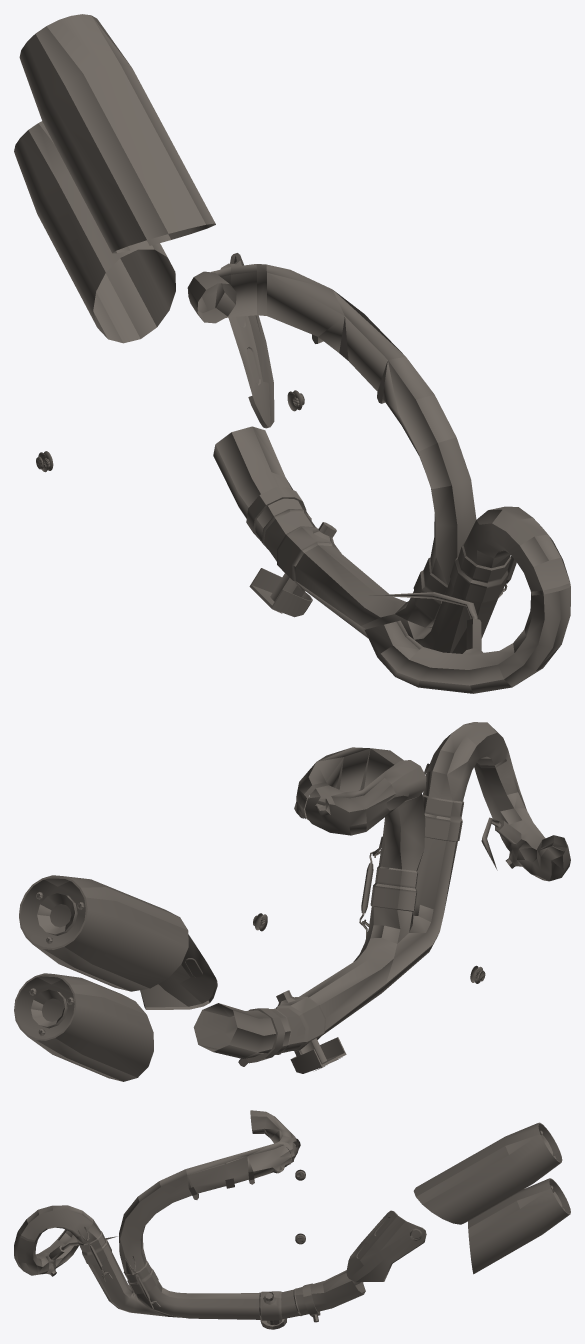
The model's file is Exhaust.glb.
The picture shows the model from 3 angles, top to bottom: view 1: azimuth 30°, elevation 25°; view 2: azimuth 150°, elevation 25°; view 3: azimuth 270°, elevation 25°; orthographic projection. The views are drawn at different scales.
Parts seen in each view (by area): view 1: exhaust; view 2: exhaust; view 3: exhaust.
Boxes of the visible parts, x1=… form: exhaust: x1=14, y1=14, x2=570, y2=693; exhaust: x1=14, y1=722, x2=570, y2=1081; exhaust: x1=14, y1=1110, x2=570, y2=1329.
Bounding box in the file's own units: 0.4033 × 0.4902 × 1.18.
1 material, 1 textured.
